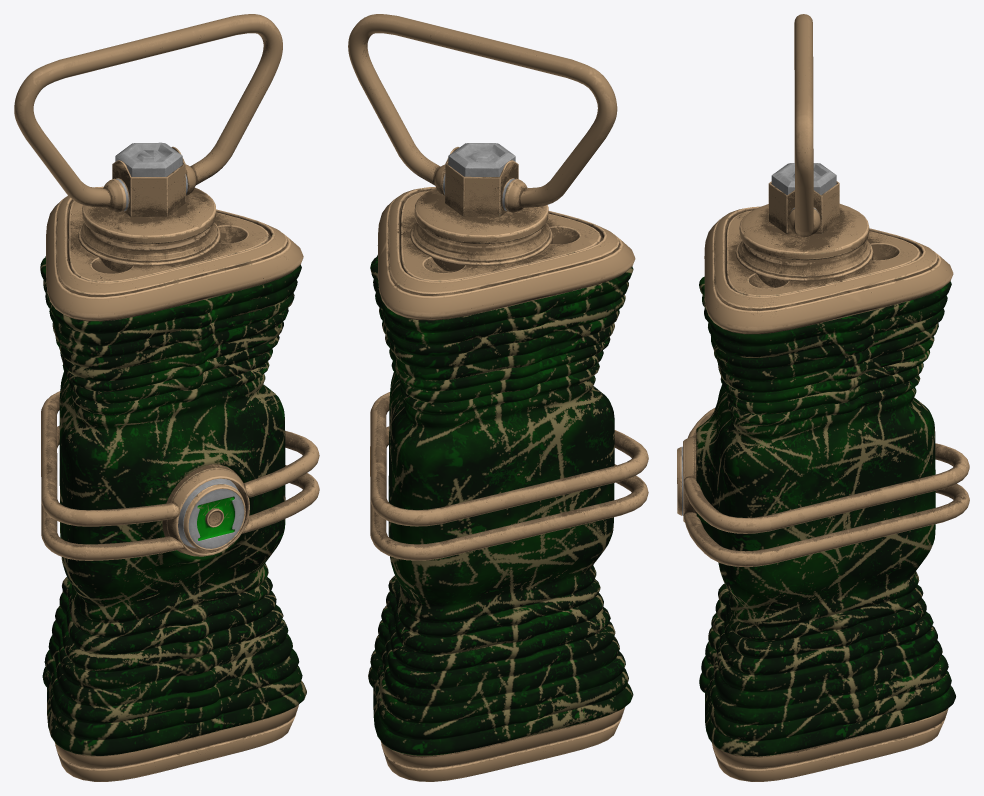
Rendered from john_stewart_lantern_high.glb.
3 renders of one model, left to right at view 1: azimuth 30°, elevation 25°; view 2: azimuth 150°, elevation 25°; view 3: azimuth 270°, elevation 25°, orthographic. The views are drawn at different scales.
Parts seen in each view (by area): view 1: lantern_lantern_0, gold_gold_0, metal_metal_0; view 2: lantern_lantern_0, gold_gold_0, metal_metal_0; view 3: lantern_lantern_0, gold_gold_0, metal_metal_0.
Part boxes in pixels (box(x1,y1,x2,y2)): lantern_lantern_0: box(40, 256, 306, 755); gold_gold_0: box(14, 14, 319, 781); metal_metal_0: box(115, 142, 244, 548); lantern_lantern_0: box(368, 255, 633, 755); gold_gold_0: box(348, 14, 648, 781); metal_metal_0: box(443, 143, 515, 210); lantern_lantern_0: box(696, 276, 955, 756); gold_gold_0: box(677, 14, 969, 781); metal_metal_0: box(681, 163, 836, 515).
Size of the model in its own units: 1.01 by 2.5 by 0.99.
3 materials, 3 textured.
